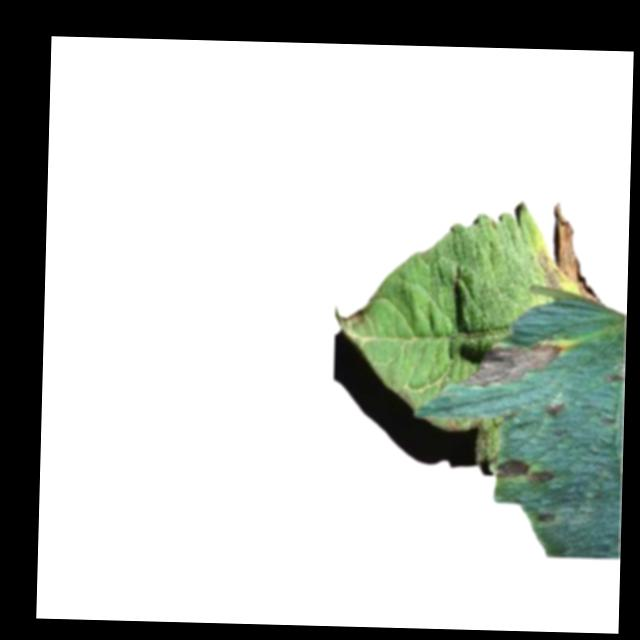Early_blight: (539, 202, 603, 307), (463, 338, 564, 391), (494, 459, 556, 482), (546, 400, 565, 419)
